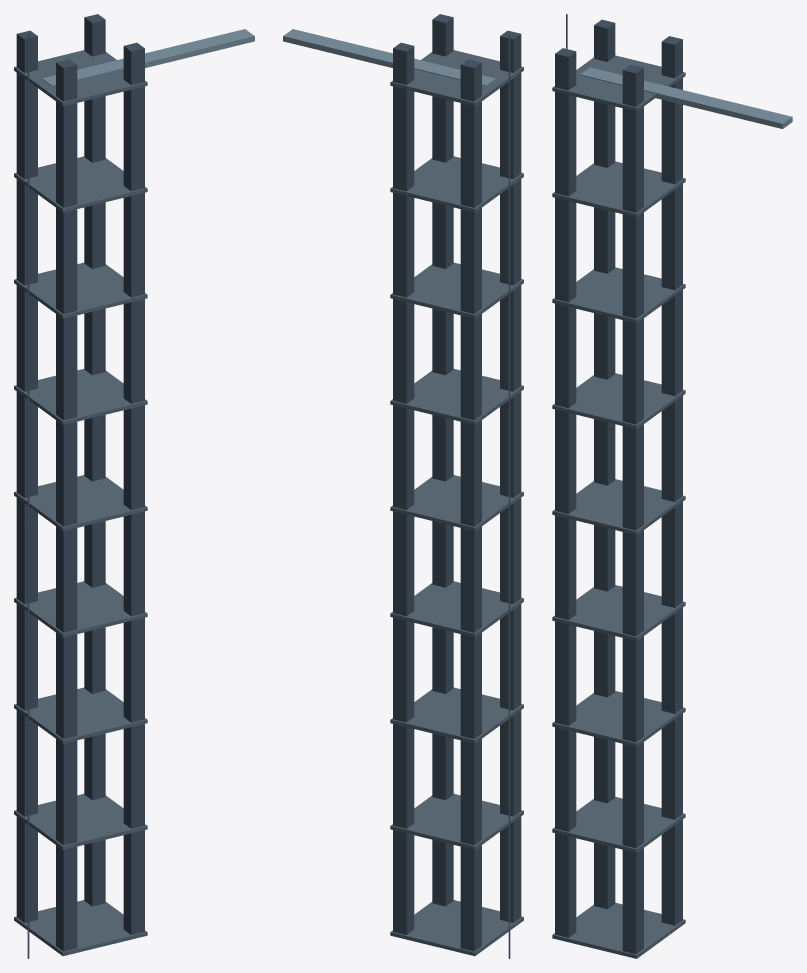
The model's file is facility-tower.glb.
3 renders of one model, left to right at view 1: azimuth 30°, elevation 25°; view 2: azimuth 150°, elevation 25°; view 3: azimuth 330°, elevation 25°, orthographic.
Parts seen in each view (by area): view 1: tower-col-0-1, tower-col-1-1, tower-col-0-0, tower-col-1-0, tower-platform-36, tower-platform-6, tower-platform-18, tower-platform-30, tower-platform-42, tower-platform-0, tower-platform-12, tower-platform-24 (+2 smaller); view 2: tower-col-0-0, tower-col-1-0, tower-col-0-1, tower-col-1-1, tower-platform-36, tower-platform-6, tower-platform-18, tower-platform-30, tower-platform-42, tower-platform-0, tower-platform-12, tower-platform-24 (+2 smaller); view 3: tower-col-1-1, tower-col-0-1, tower-col-1-0, tower-col-0-0, tower-platform-30, tower-platform-0, tower-platform-36, tower-platform-12, tower-platform-18, tower-platform-24, tower-platform-6, tower-platform-42 (+2 smaller).
Part boxes in pixels (x1,y1,x2,y2): tower-col-0-1: (56, 59, 77, 951); tower-col-1-1: (123, 42, 144, 934); tower-col-0-0: (16, 30, 37, 922); tower-col-1-0: (84, 14, 105, 906); tower-platform-36: (14, 262, 147, 318); tower-platform-6: (14, 794, 147, 849); tower-platform-18: (14, 581, 147, 637); tower-platform-30: (14, 369, 147, 424); tower-platform-42: (14, 156, 147, 212); tower-platform-0: (14, 900, 147, 956); tower-platform-12: (14, 687, 147, 743); tower-platform-24: (14, 475, 147, 531); tower-col-0-0: (460, 59, 481, 951); tower-col-1-0: (393, 42, 414, 934); tower-col-0-1: (500, 30, 521, 922); tower-col-1-1: (432, 14, 453, 906); tower-platform-36: (390, 262, 523, 318); tower-platform-6: (390, 794, 523, 849); tower-platform-18: (390, 581, 523, 637); tower-platform-30: (390, 369, 523, 424); tower-platform-42: (390, 156, 523, 212); tower-platform-0: (390, 900, 523, 956); tower-platform-12: (390, 687, 523, 743); tower-platform-24: (390, 475, 523, 531); tower-col-1-1: (622, 64, 643, 954); tower-col-0-1: (555, 48, 576, 937); tower-col-1-0: (661, 36, 682, 925); tower-col-0-0: (594, 19, 615, 909); tower-platform-30: (552, 373, 685, 429); tower-platform-0: (552, 902, 685, 958); tower-platform-36: (552, 267, 685, 323); tower-platform-12: (552, 691, 685, 746); tower-platform-18: (552, 585, 685, 641); tower-platform-24: (552, 479, 685, 535); tower-platform-6: (552, 797, 685, 852); tower-platform-42: (552, 161, 685, 217).
Bounding box in the file's own units: 13.15 × 52.2 × 5.
